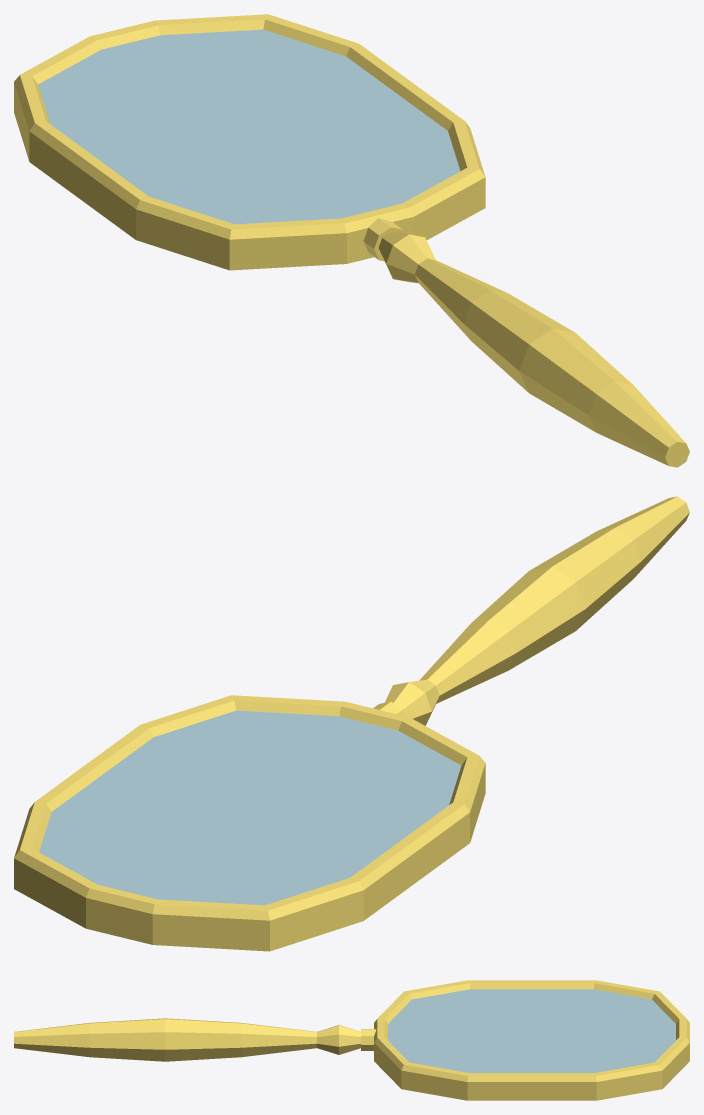
The model's file is Hand_mirror.fbx.
The picture shows the model from 3 angles, top to bottom: view 1: azimuth 30°, elevation 25°; view 2: azimuth 150°, elevation 25°; view 3: azimuth 270°, elevation 25°; orthographic projection. The views are drawn at different scales.
Parts seen in each view (by area): view 1: Hand_mirror; view 2: Hand_mirror; view 3: Hand_mirror.
Boxes of the visible parts, left/top/right/bottom form: Hand_mirror: left=14, top=14, right=689, bottom=467; Hand_mirror: left=14, top=496, right=689, bottom=951; Hand_mirror: left=14, top=980, right=689, bottom=1100.
Bounding box in the file's own units: 10.22 × 29.59 × 2.02.
